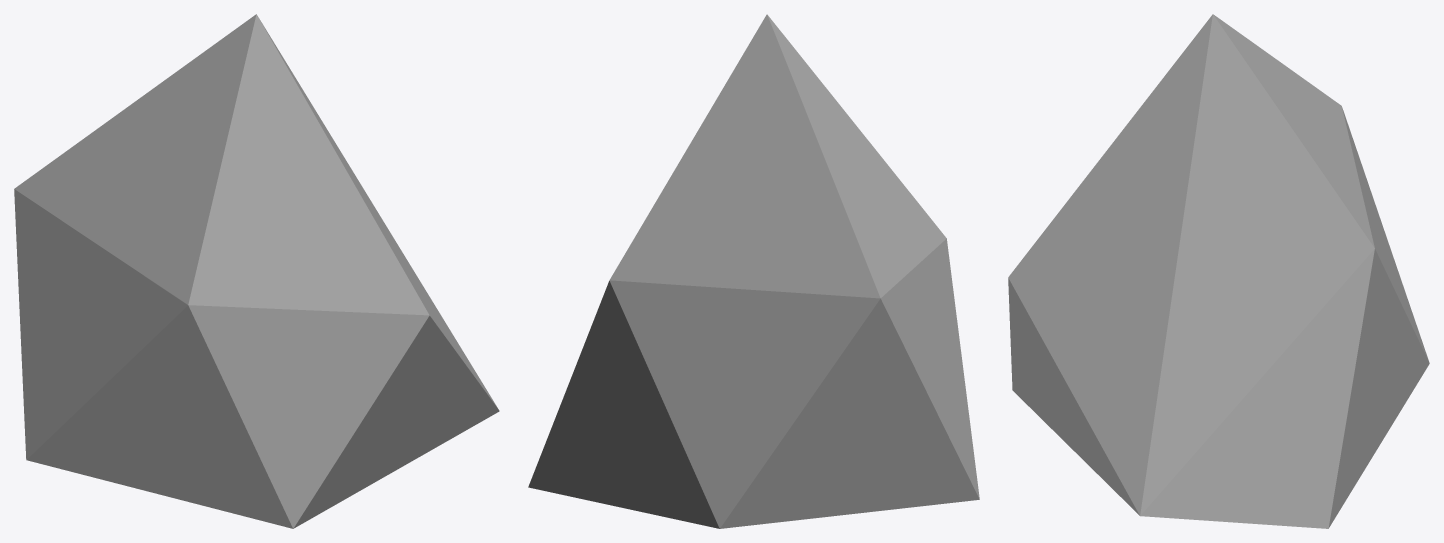
Rendered from rock4.fbx.
The picture shows the model from 3 angles, left to right: view 1: azimuth 30°, elevation 25°; view 2: azimuth 150°, elevation 25°; view 3: azimuth 270°, elevation 25°; orthographic projection. The views are drawn at different scales.
Visible parts, largest first — view 1: Icosphere.002; view 2: Icosphere.002; view 3: Icosphere.002.
Part boxes in pixels (x1,y1,x2,y2): Icosphere.002: (14, 14, 499, 528); Icosphere.002: (528, 14, 979, 528); Icosphere.002: (1008, 14, 1429, 528).
Bounding box in the file's own units: 34.83 × 35.51 × 31.16.
